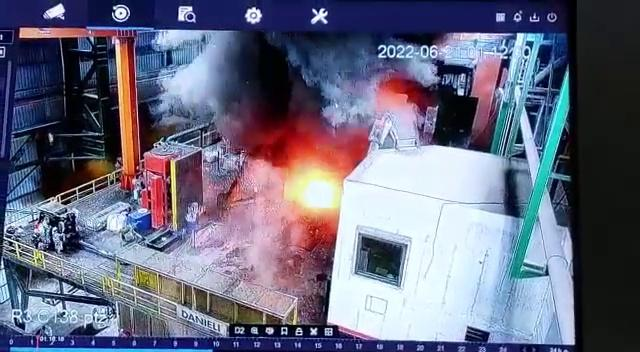fire: (238, 63, 418, 234)
